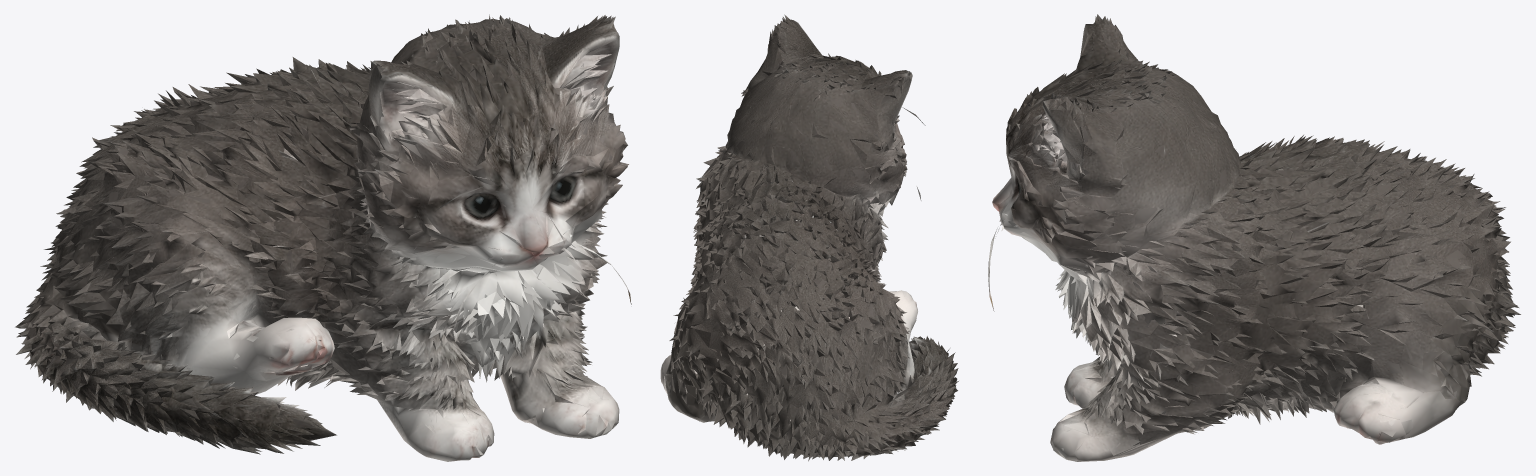
Rendered from Munchkin.fbx.
3 renders of one model, left to right at view 1: azimuth 30°, elevation 25°; view 2: azimuth 150°, elevation 25°; view 3: azimuth 270°, elevation 25°, orthographic. The views are drawn at different scales.
Visible parts, largest first — view 1: Mesh_0; view 2: Mesh_0; view 3: Mesh_0.
Boxes of the visible parts, box(x1,y1,x2,y2) form: Mesh_0: box(15, 14, 631, 461); Mesh_0: box(660, 14, 958, 461); Mesh_0: box(988, 14, 1520, 461).
Bounding box in the file's own units: 156 × 141 × 186.
1 material, 1 textured.
